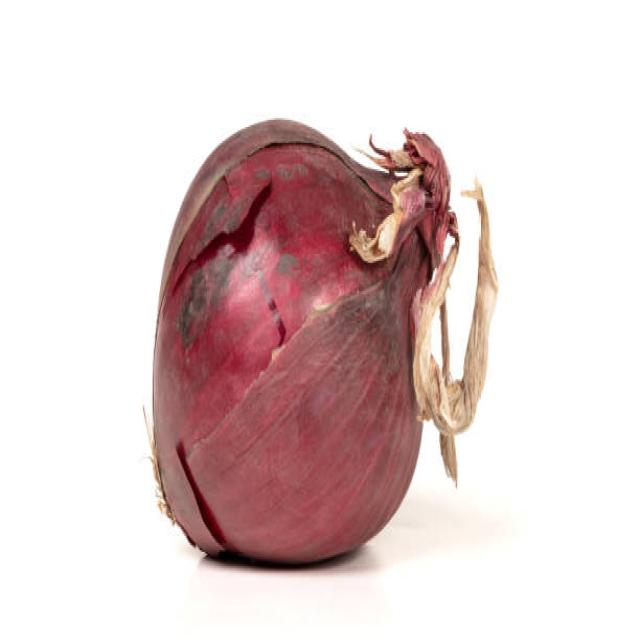onion: (148, 118, 451, 569)
